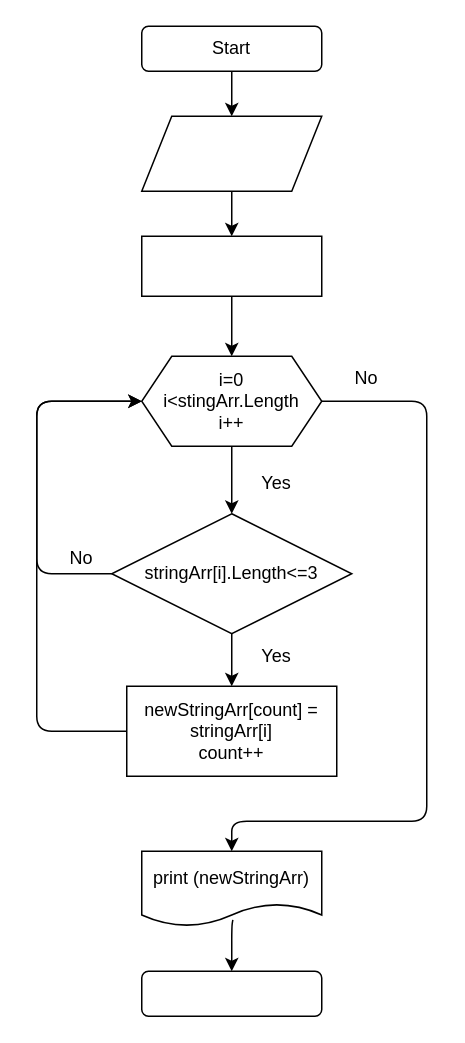
Image size: 465x1043. Some labels were removed from this diagram. The box of each missing label's shape, as (x1, y1, x2, y2) in pixels:
End: (140, 970, 322, 1016)
Input stringArr: (140, 115, 322, 191)
newStringArr int count = 0: (140, 235, 322, 296)
